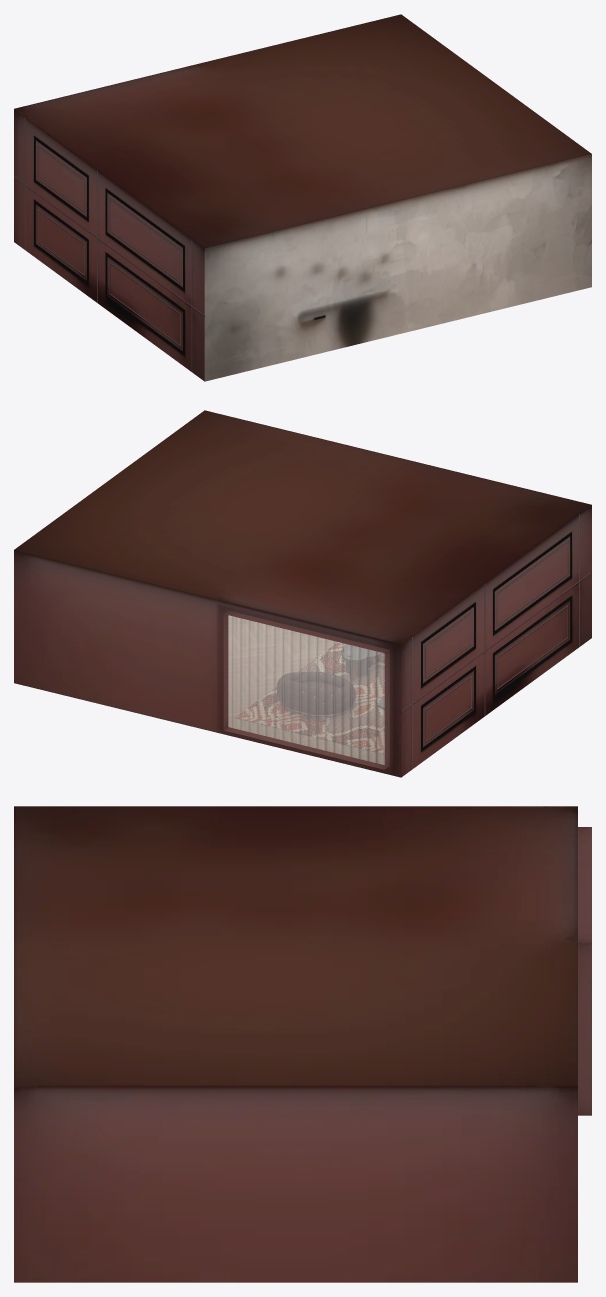
File: vintage_living_room.glb
3 renders of one model, top to bottom at view 1: azimuth 30°, elevation 25°; view 2: azimuth 150°, elevation 25°; view 3: azimuth 270°, elevation 25°, orthographic. The views are drawn at different scales.
Visible parts, largest first — view 1: house_house.001_0, wall_wall.001_0; view 2: house_house.001_0, curtain_curtain.001_0, floor_Floor.001_0, carpet_Carpet.001_0, sofa_sofa1.001_0, table_table2.001_0; view 3: house_house.001_0.
Part boxes in pixels (<box>): house_house.001_0: <box>14,14,591,381</box>; wall_wall.001_0: <box>204,154,591,381</box>; house_house.001_0: <box>14,410,591,777</box>; curtain_curtain.001_0: <box>228,615,384,765</box>; floor_Floor.001_0: <box>228,616,384,764</box>; carpet_Carpet.001_0: <box>235,642,384,754</box>; sofa_sofa1.001_0: <box>277,672,355,714</box>; table_table2.001_0: <box>342,644,384,709</box>; house_house.001_0: <box>14,806,591,1282</box>.
Bounding box in the file's own units: 12.17 × 4.01 × 10.63.
Materials: 18 (18 with a texture image).
